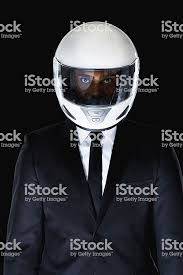helmet: (52, 23, 147, 127)
